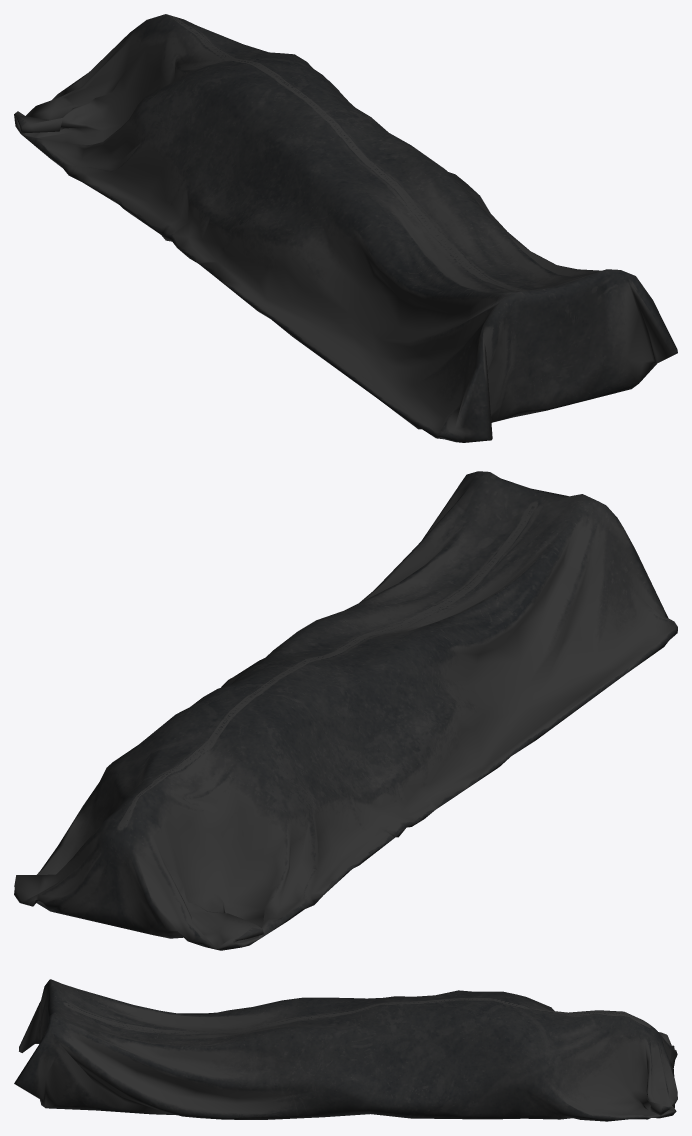
File: SM_Man_in_bag.FBX
3 renders of one model, top to bottom at view 1: azimuth 30°, elevation 25°; view 2: azimuth 150°, elevation 25°; view 3: azimuth 270°, elevation 25°, orthographic. The views are drawn at different scales.
Visible parts, largest first — view 1: SM_Man_in_bag; view 2: SM_Man_in_bag; view 3: SM_Man_in_bag.
Boxes of the visible parts, x1,y1,x2,y2 form: SM_Man_in_bag: (14, 14, 677, 442); SM_Man_in_bag: (14, 471, 677, 950); SM_Man_in_bag: (14, 979, 677, 1121).
Size of the model in its own units: 61.27 by 195 by 29.13.
